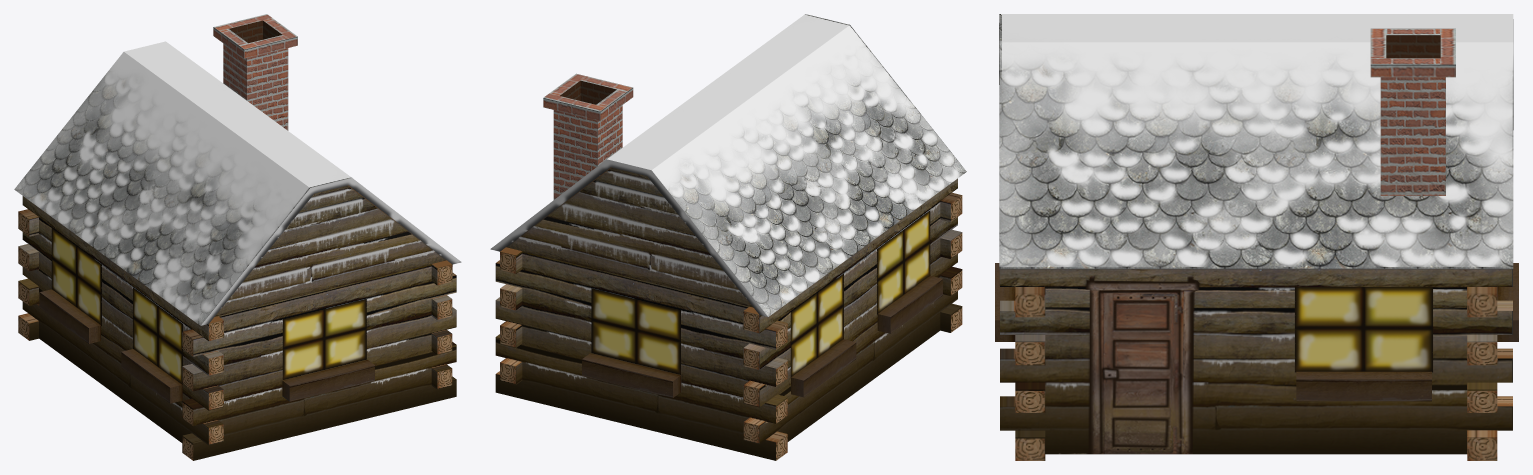
Rendered from ms_cabin01.fbx.
3 views of the same model, side by side, from view 1: azimuth 30°, elevation 25°; view 2: azimuth 150°, elevation 25°; view 3: azimuth 270°, elevation 25° (orthographic). The views are drawn at different scales.
Parts seen in each view (by area): view 1: polySurface18; view 2: polySurface18; view 3: polySurface18.
Part boxes in pixels (x1,y1,x2,y2): polySurface18: [14, 14, 461, 460]; polySurface18: [490, 14, 966, 460]; polySurface18: [995, 14, 1518, 460].
Bounding box in the file's own units: 312 × 304 × 384.
